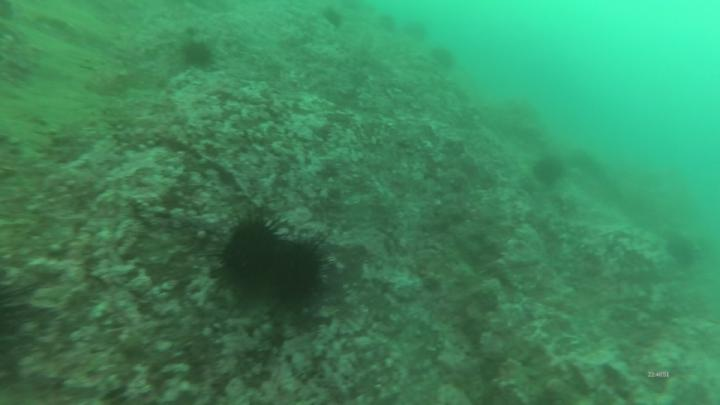echinus: (215, 209, 287, 295), (263, 230, 327, 312), (665, 228, 703, 269), (530, 151, 567, 189), (182, 37, 216, 74), (401, 19, 429, 45), (433, 42, 456, 70), (321, 7, 347, 31), (376, 12, 400, 35)
